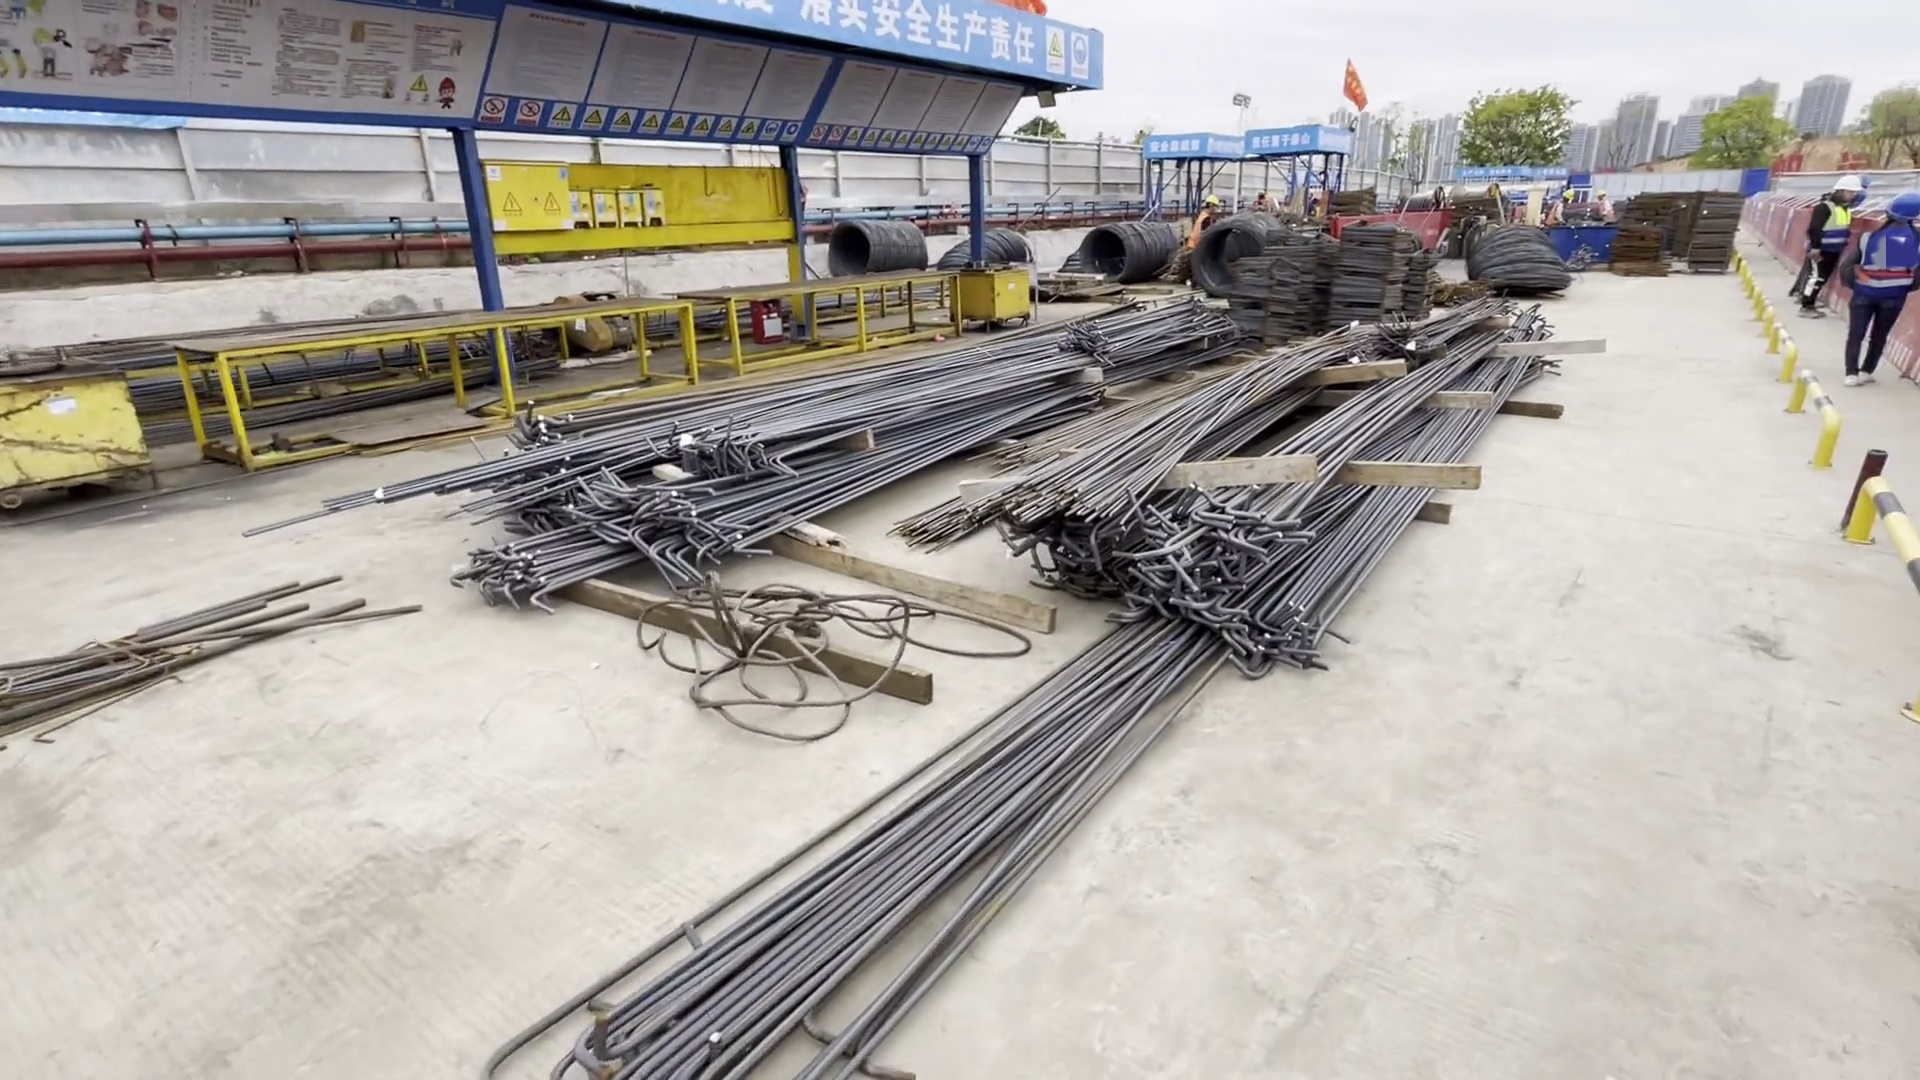ebox: (476, 156, 669, 225)
helmet: (1890, 193, 1920, 220), (1836, 176, 1863, 192), (1206, 194, 1223, 204)
person: (1845, 186, 1920, 387), (1804, 175, 1857, 321), (1184, 197, 1212, 262), (1545, 189, 1570, 226), (1589, 186, 1612, 221)
rebar: (480, 307, 1562, 1079), (381, 303, 1249, 597)
slogan: (702, 1, 1097, 95), (1248, 131, 1310, 153), (1143, 136, 1202, 153)
vest: (1860, 232, 1916, 295), (1820, 206, 1851, 251)
